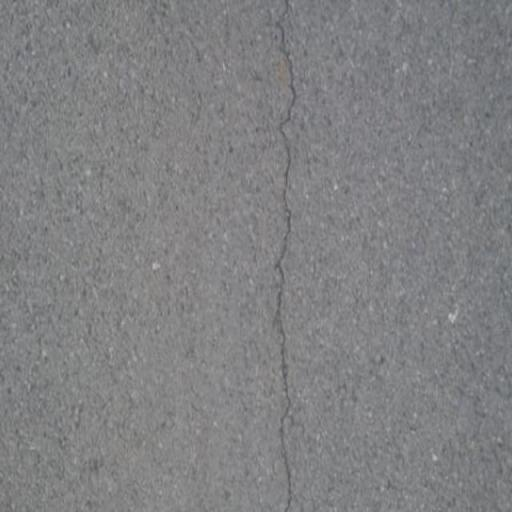moderate crack: (256, 0, 318, 512)
